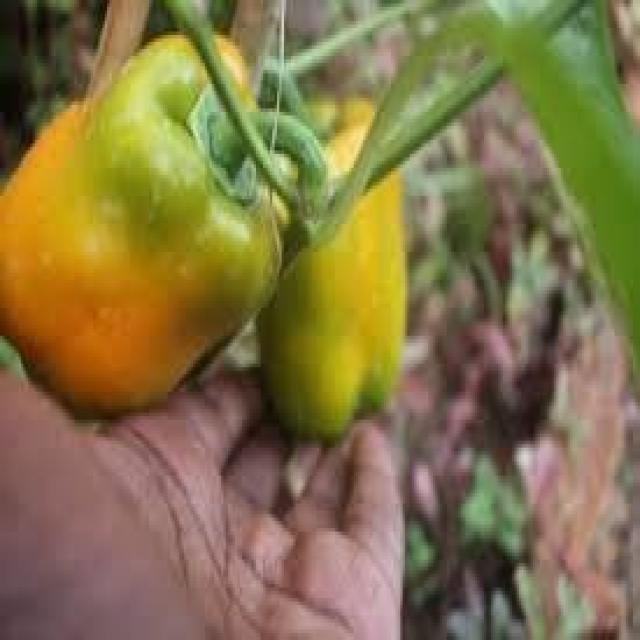bell_pepper: (4, 22, 326, 436)
